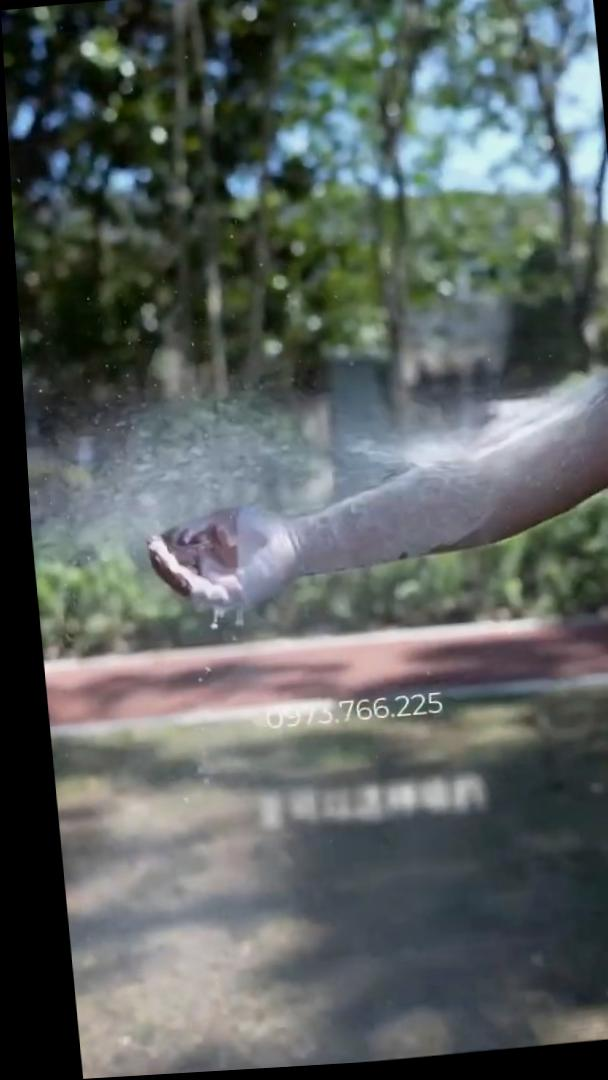FireExtinguisher: (553, 362, 608, 811)
